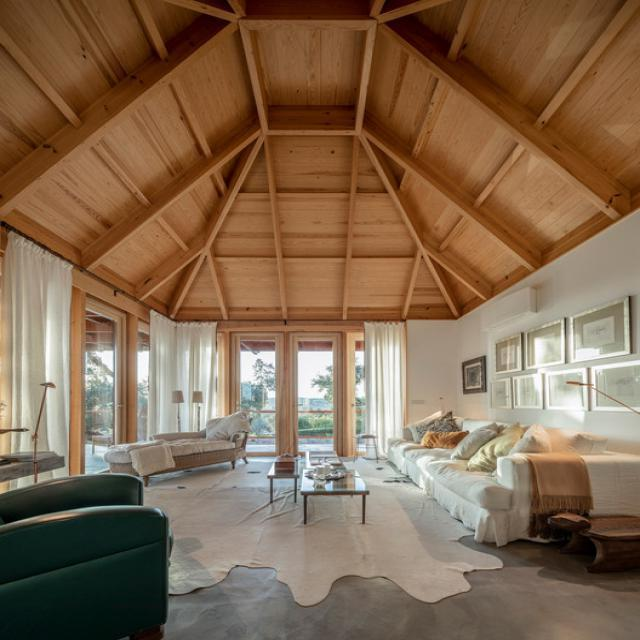couch: (382, 411, 640, 548), (0, 472, 176, 640), (103, 412, 254, 485)
